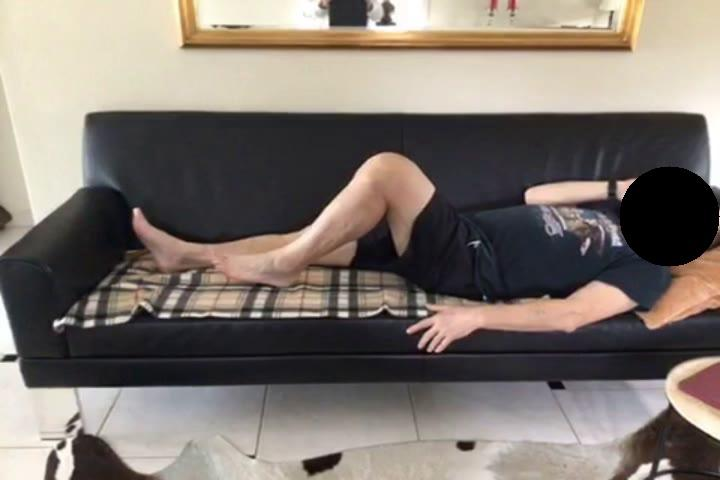lower_body: (131, 149, 490, 299)
